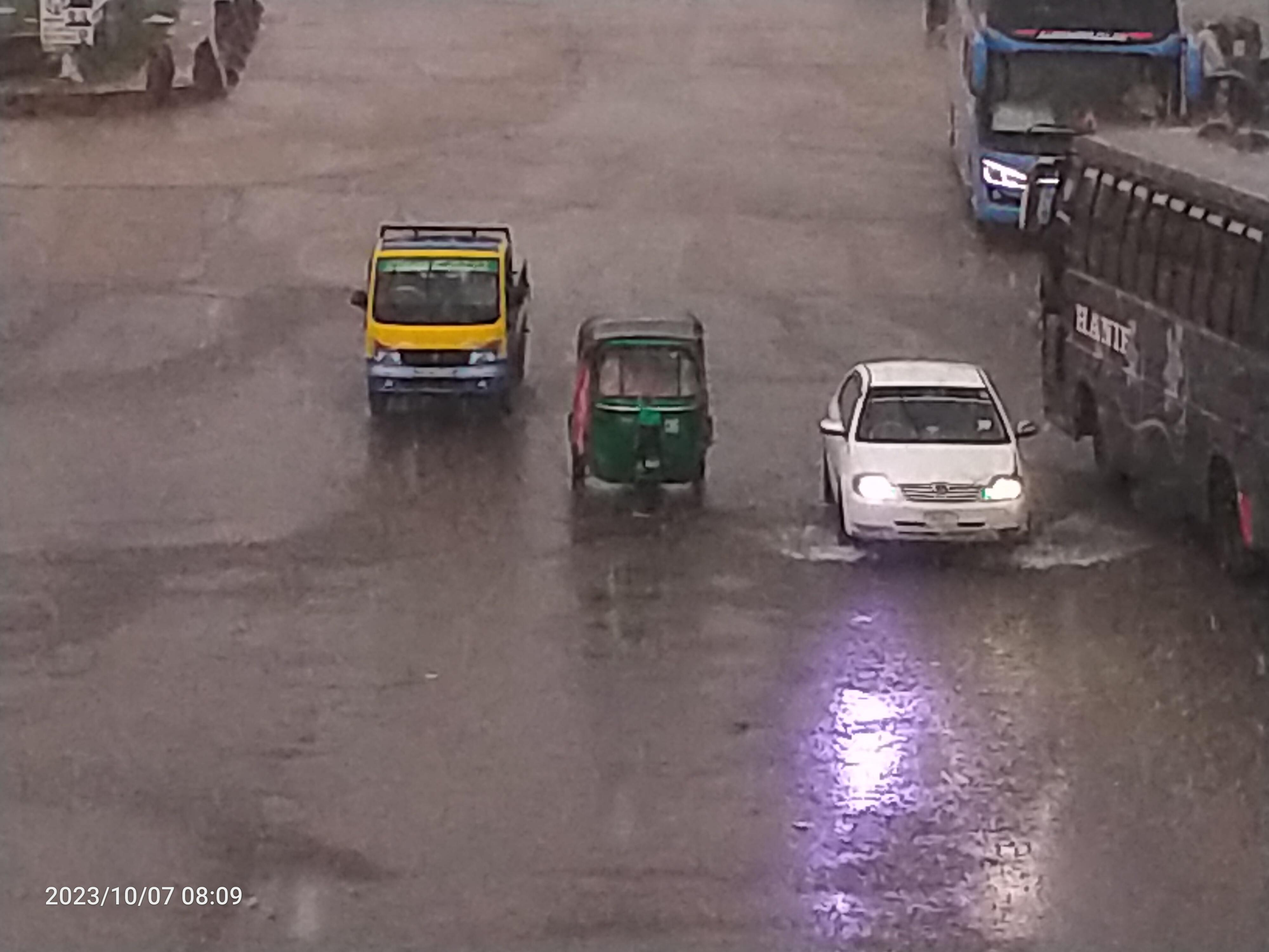Bus: (1029, 90, 1261, 557), (917, 6, 1239, 258)
Car: (786, 314, 1065, 677)
Truck: (335, 199, 555, 452)
